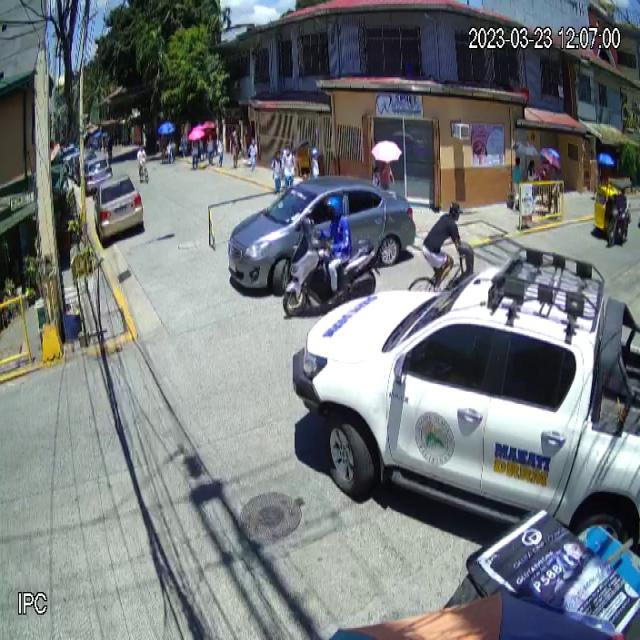Car: (291, 243, 640, 544)
Motorcycle: (283, 224, 382, 320)
